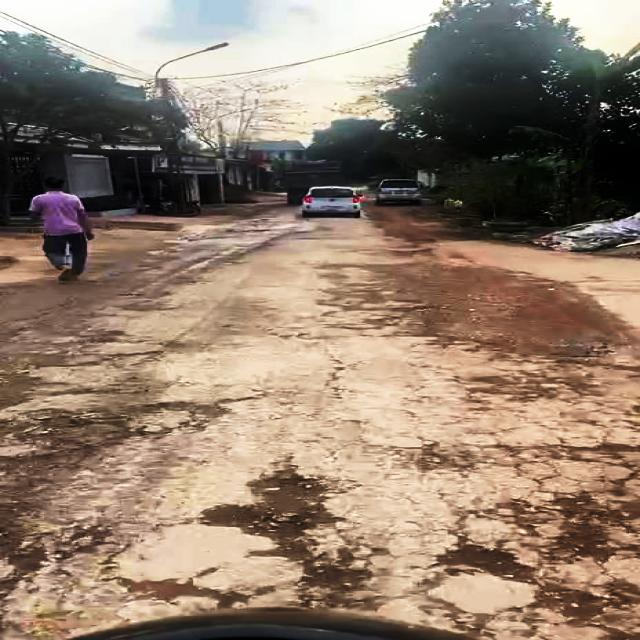pothole: (198, 461, 384, 611), (521, 484, 640, 564), (0, 514, 112, 598), (520, 577, 640, 640), (426, 538, 545, 585), (108, 576, 258, 613), (122, 396, 235, 439), (550, 439, 640, 473)
